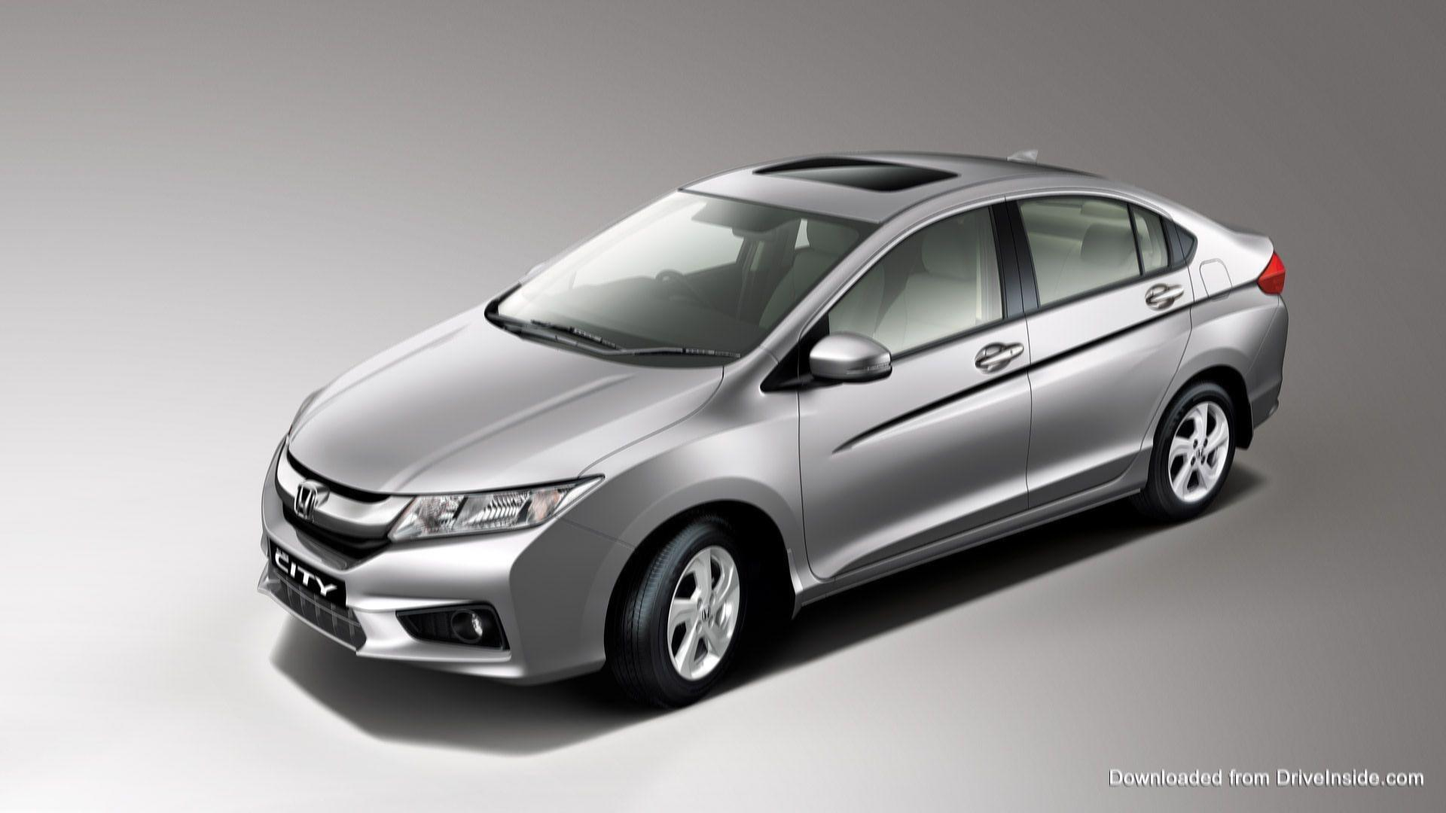Car hood: (285, 304, 724, 493)
Fender - -F-L-: (552, 346, 817, 627)
Fender - -R-L-: (1124, 182, 1281, 484)
Front bumper: (234, 498, 640, 689)
Headlight - -L-: (387, 474, 604, 549)
Passenger-s door - -F-L-: (773, 163, 1041, 612)
Passenger-s door - -R-L-: (1004, 154, 1212, 551)
Rear light - -L-: (1253, 250, 1288, 302)
Side bumper - -L-: (778, 443, 1151, 658)
Side mirror - -L-: (790, 325, 894, 391)
